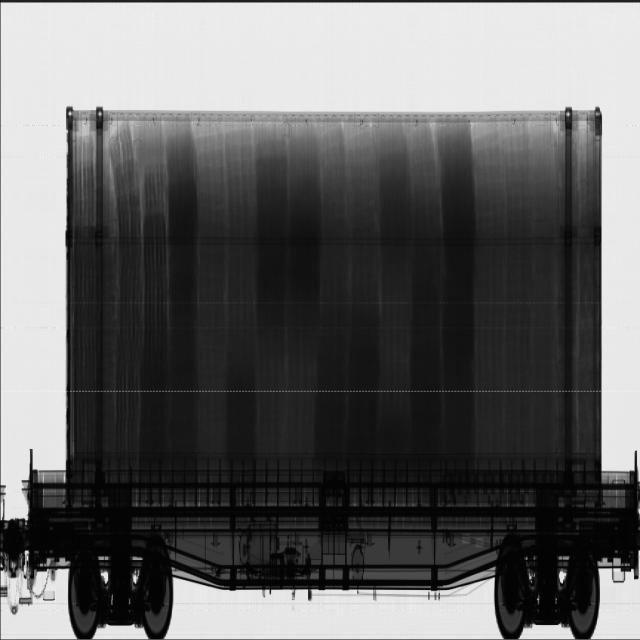textiles: (72, 118, 595, 468)
